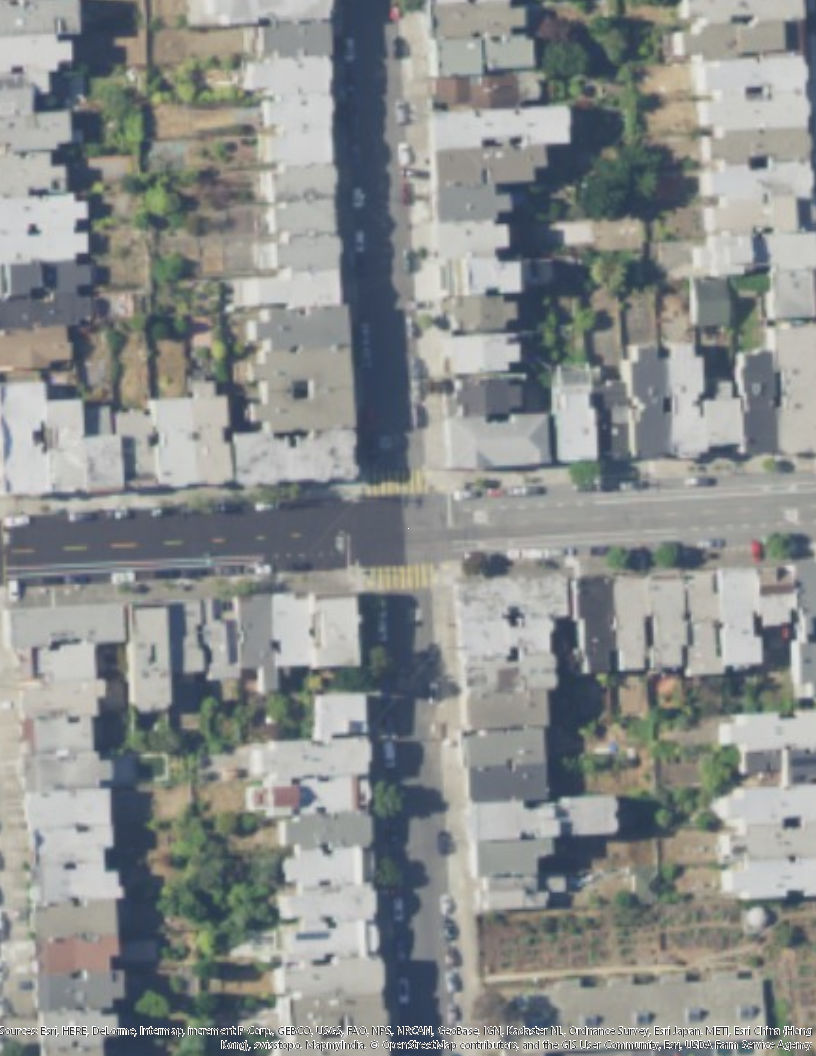zebracross: (356, 467, 429, 505), (361, 561, 437, 593)
